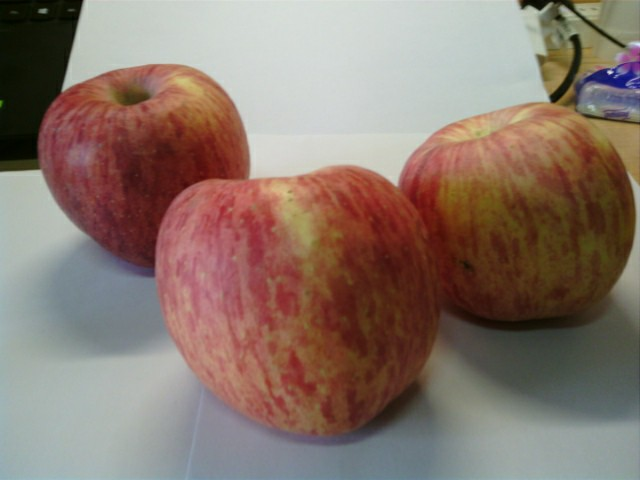normal_apple: (154, 163, 442, 443), (398, 98, 637, 327), (35, 60, 252, 268)
